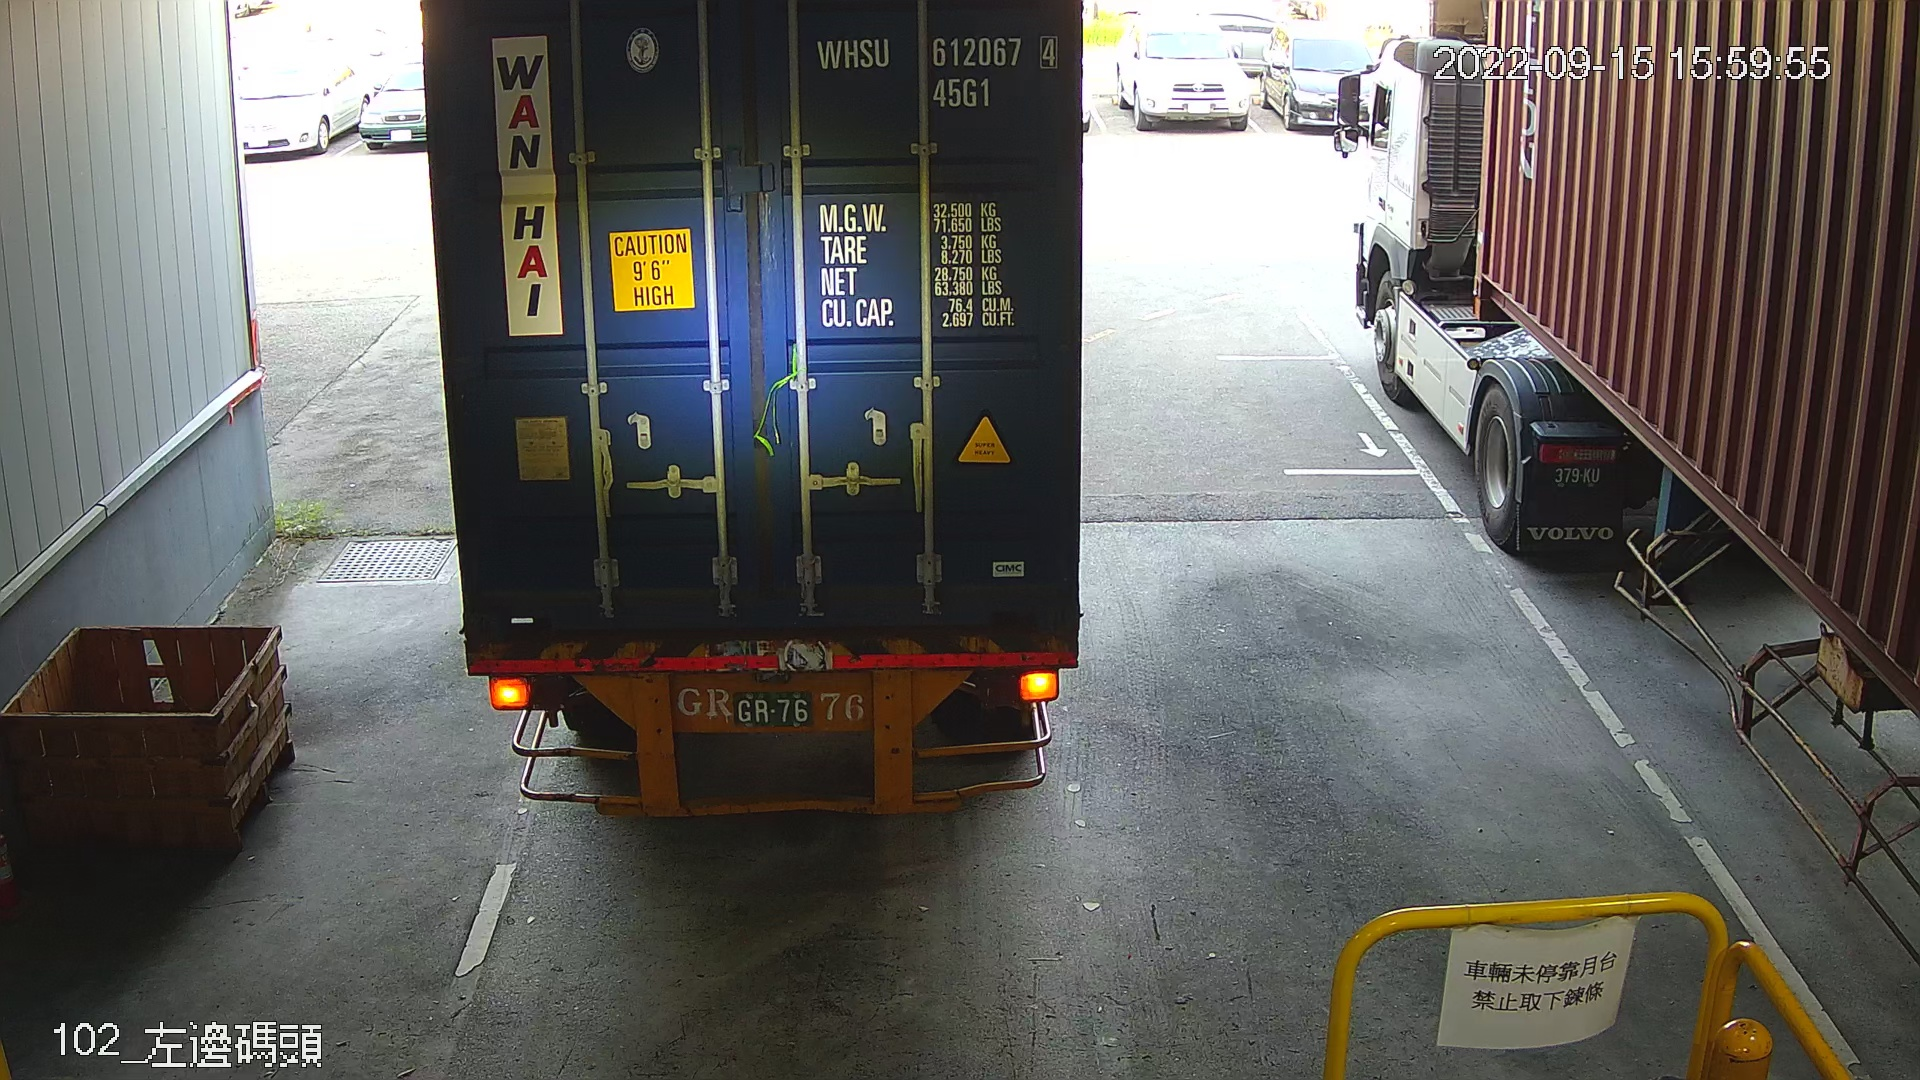container: (806, 26, 1067, 113)
